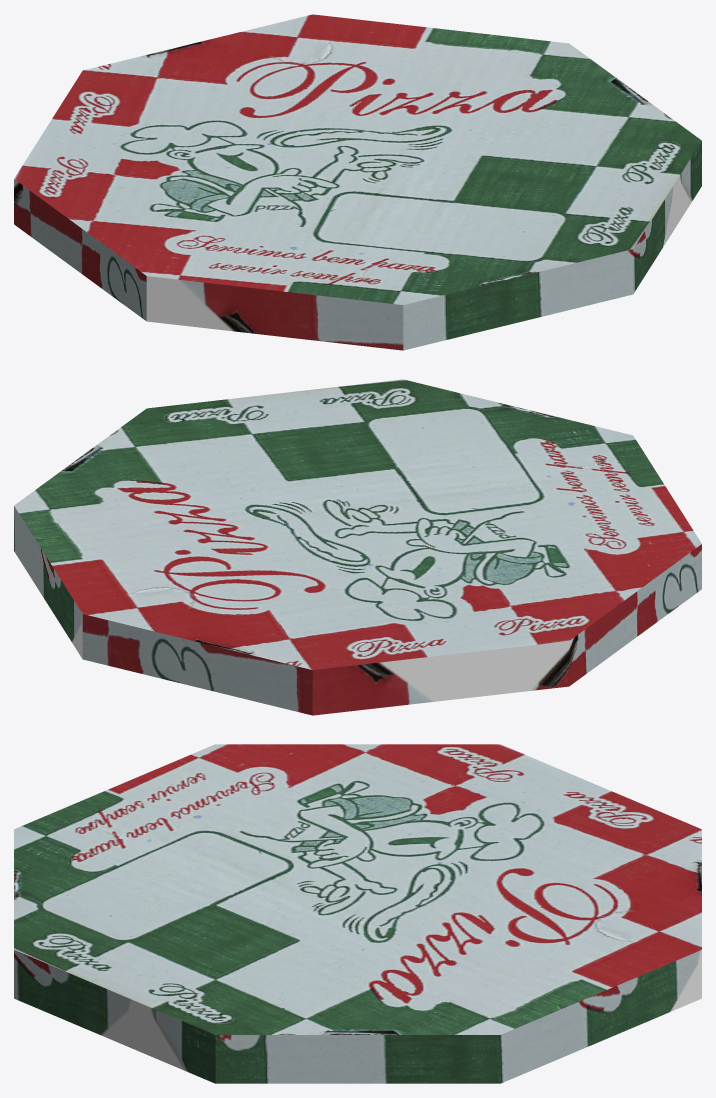
File: Pizza.fbx
3 views of the same model, one above another, from view 1: azimuth 30°, elevation 25°; view 2: azimuth 150°, elevation 25°; view 3: azimuth 270°, elevation 25° (orthographic). The views are drawn at different scales.
Parts seen in each view (by area): view 1: Pizza; view 2: Pizza; view 3: Pizza.
Part boxes in pixels (box(x1,y1,x2,y2)): Pizza: box(14, 14, 701, 350); Pizza: box(14, 379, 701, 715); Pizza: box(14, 744, 701, 1083).
Size of the model in its own units: 48.41 by 3.79 by 48.41.
